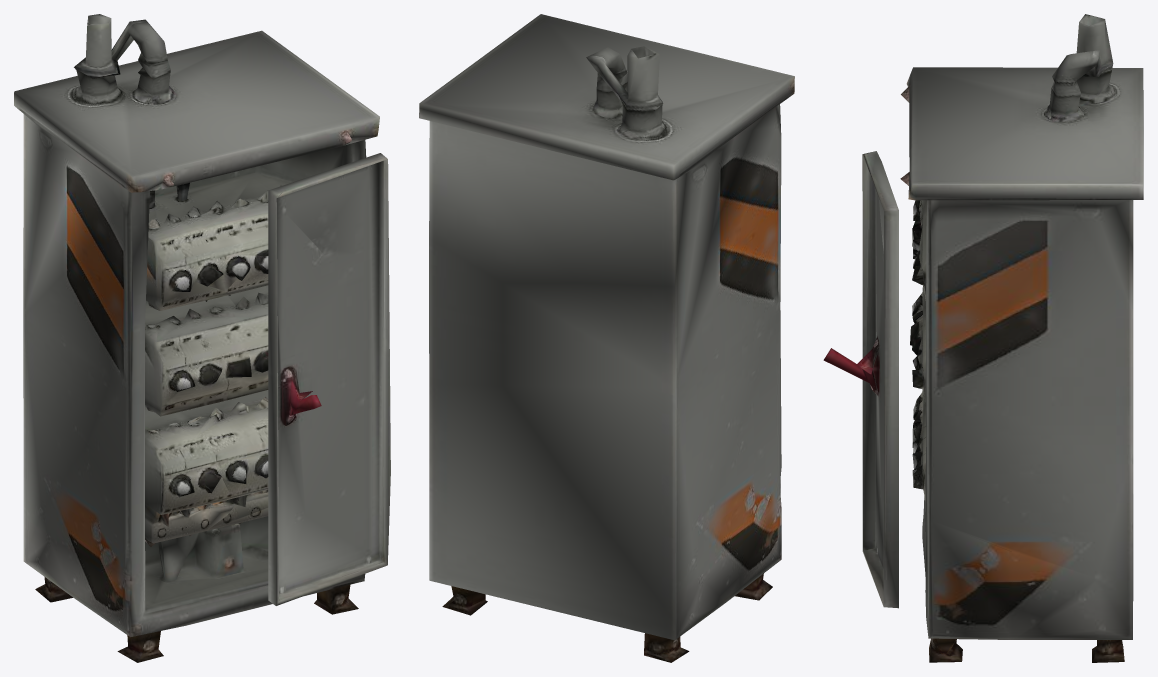
Rendered from power_switch.glb.
3 renders of one model, left to right at view 1: azimuth 30°, elevation 25°; view 2: azimuth 150°, elevation 25°; view 3: azimuth 270°, elevation 25°, orthographic. The views are drawn at different scales.
Visible parts, largest first — view 1: Model; view 2: Model; view 3: Model.
Boxes of the visible parts, x1,y1,x2,y2 form: Model: (14, 14, 390, 662); Model: (419, 14, 794, 662); Model: (823, 14, 1143, 662).
Bounding box in the file's own units: 0.8158 × 1.8 × 0.933.
Materials: 1 (1 with a texture image).
